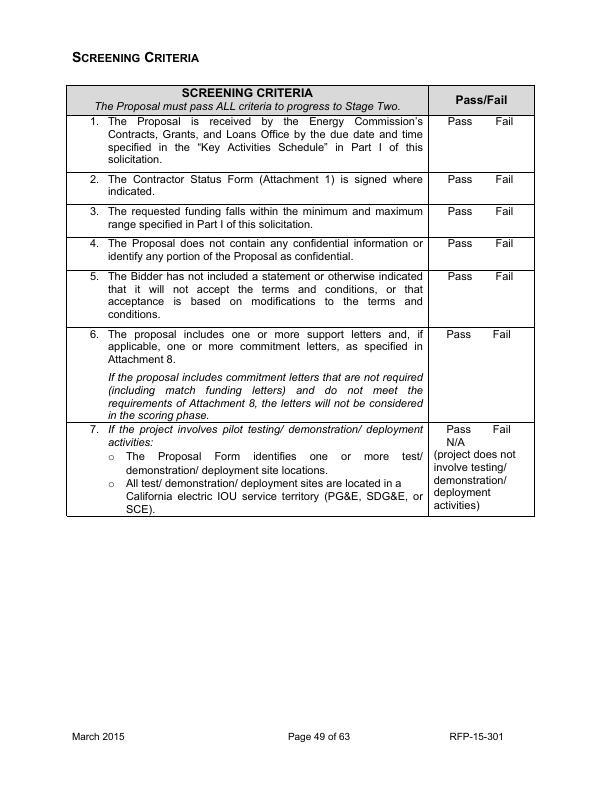table: (64, 82, 540, 523)
text: (67, 47, 202, 66)
